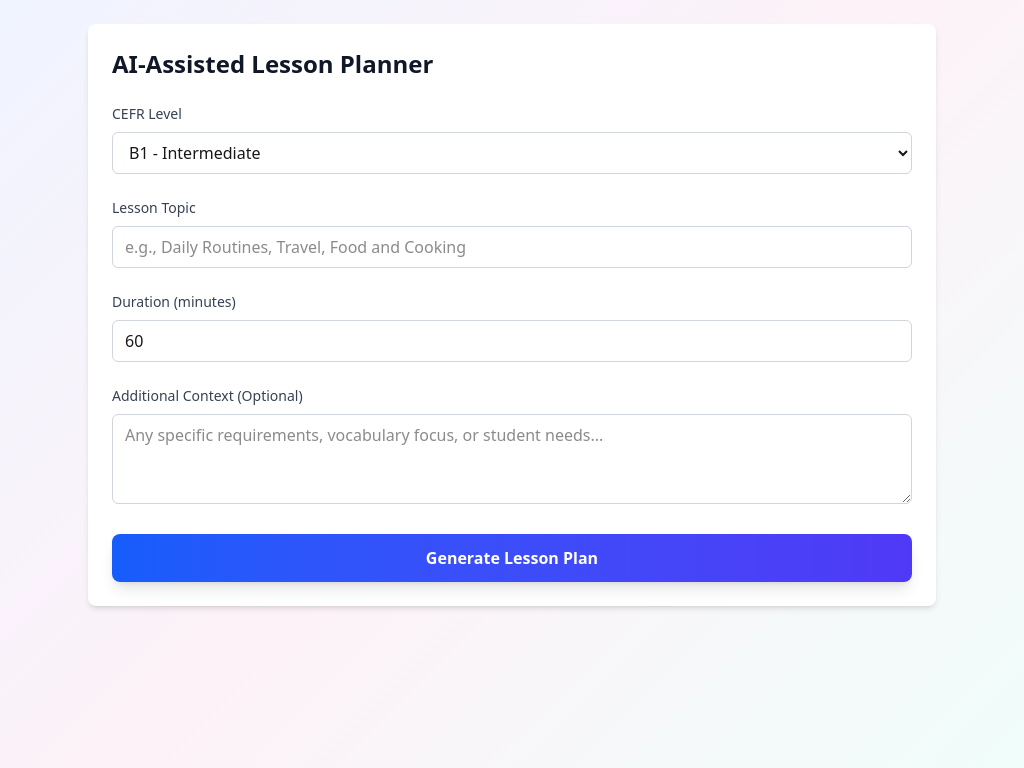
LessonPlannerForm Component › should display generation time
Type "Test" into the field labelled "Lesson Topic". click: (512, 247)
box: [112,226,912,268]
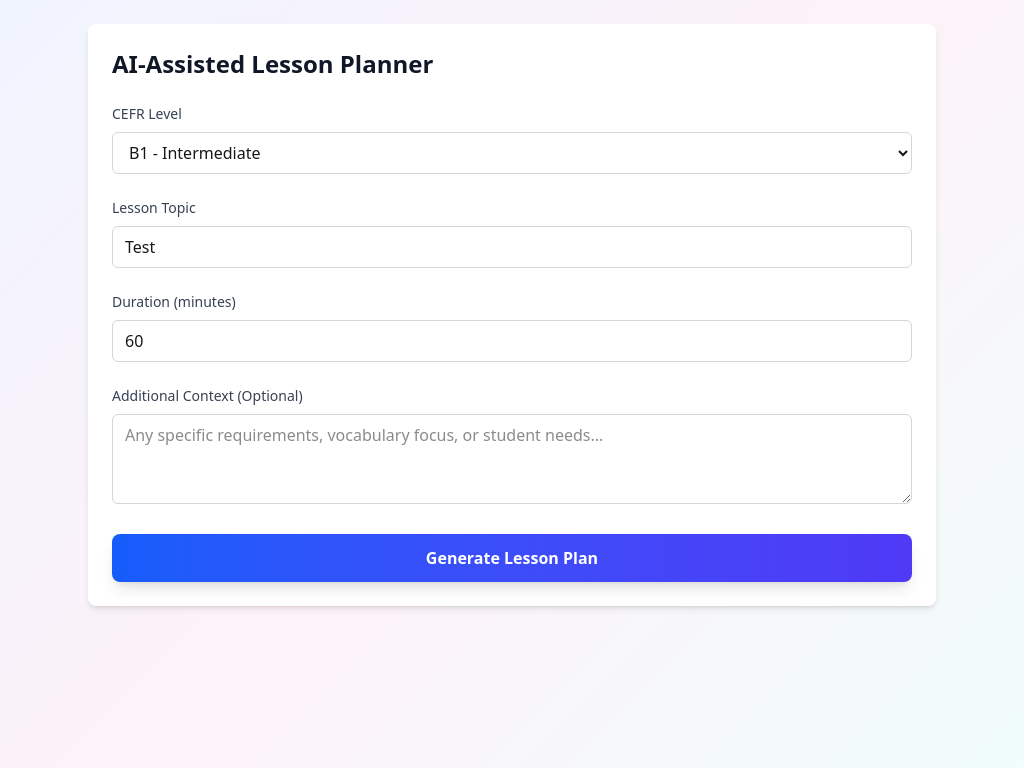
Click the button "Generate Lesson Plan". click: (512, 558)
box: [112,534,912,582]
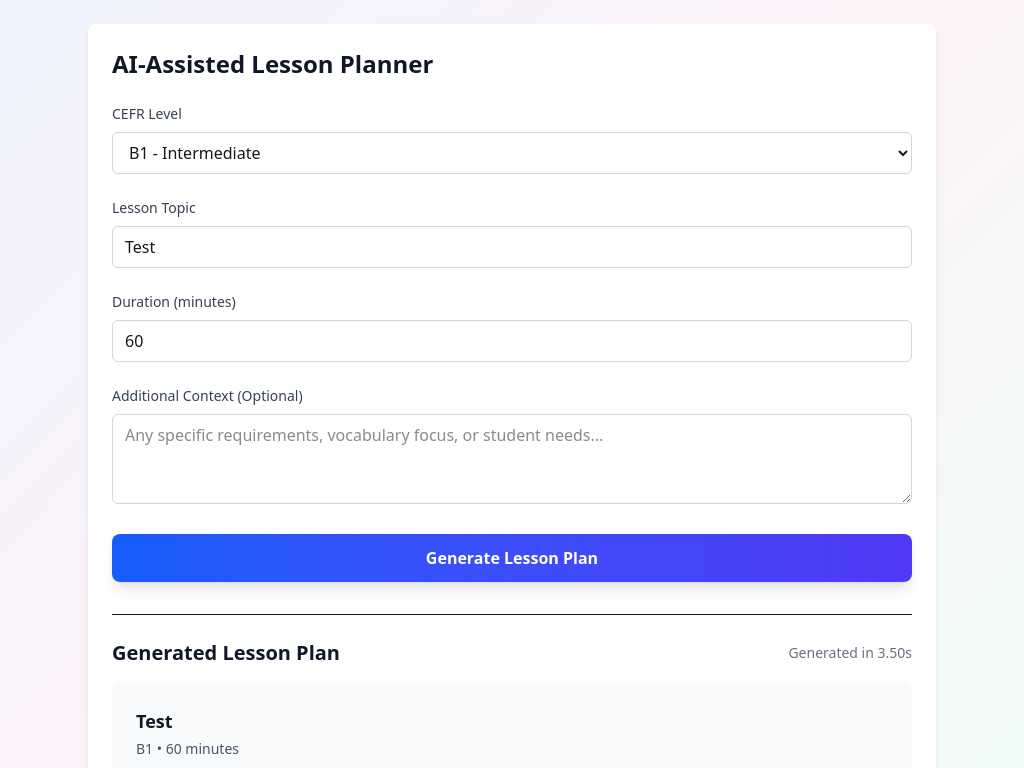
Check: the text "Generated in 3.50s" is shown, box [788,643,912,663]
